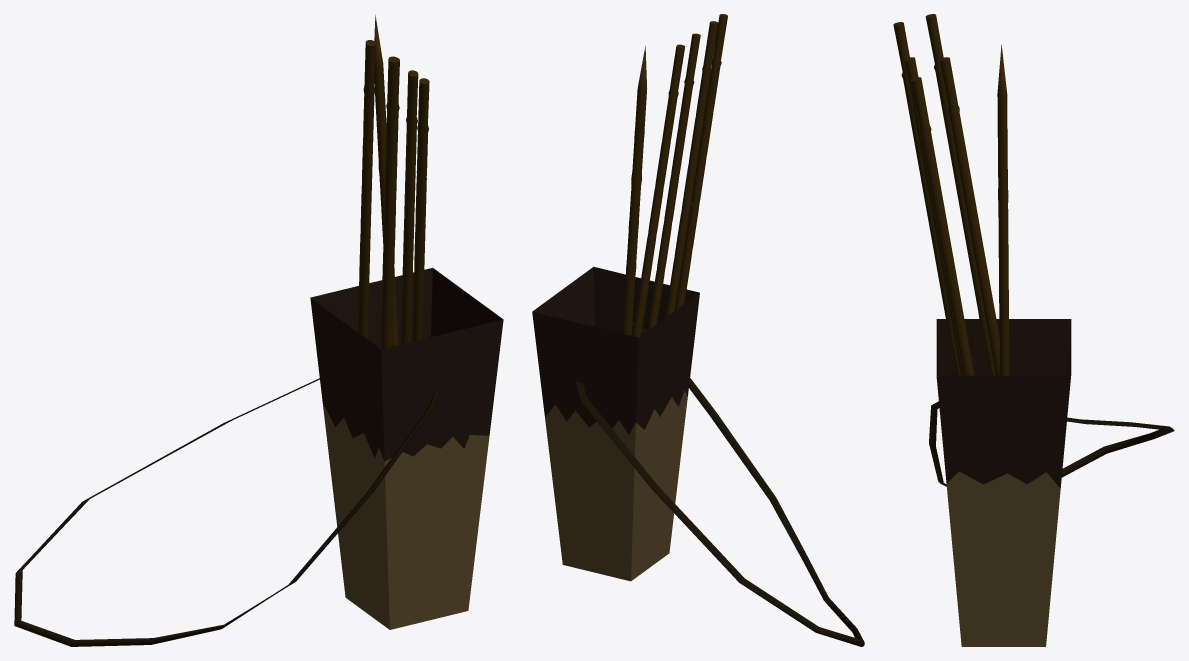
The model's file is Ando.dae.
3 renders of one model, left to right at view 1: azimuth 30°, elevation 25°; view 2: azimuth 150°, elevation 25°; view 3: azimuth 270°, elevation 25°, orthographic. The views are drawn at different scales.
Parts seen in each view (by area): view 1: polySurface15_ncl1_1; view 2: polySurface15_ncl1_1; view 3: polySurface15_ncl1_1.
Boxes of the visible parts, x1,y1,x2,y2 form: polySurface15_ncl1_1: (14, 15, 503, 646); polySurface15_ncl1_1: (532, 14, 864, 646); polySurface15_ncl1_1: (893, 14, 1174, 646).
Size of the model in its own units: 4.98 by 7.25 by 3.18.
